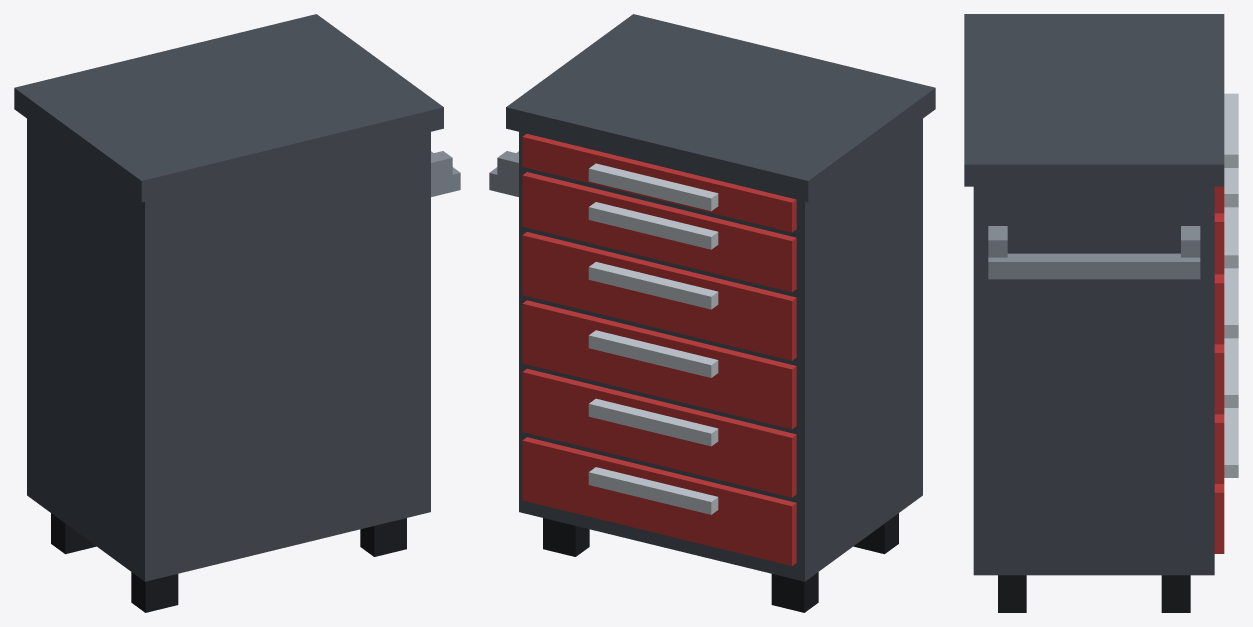
The model's file is tool_chest.glb.
The picture shows the model from 3 angles, left to right: view 1: azimuth 30°, elevation 25°; view 2: azimuth 150°, elevation 25°; view 3: azimuth 270°, elevation 25°; orthographic projection. The views are drawn at different scales.
Parts seen in each view (by area): view 1: Body; view 2: Body; view 3: Body.
Boxes of the visible parts, x1,y1,x2,y2 form: Body: (14, 14, 460, 612); Body: (489, 14, 935, 612); Body: (964, 14, 1238, 612).
Bounding box in the file's own units: 0.81 × 1.05 × 0.57.
